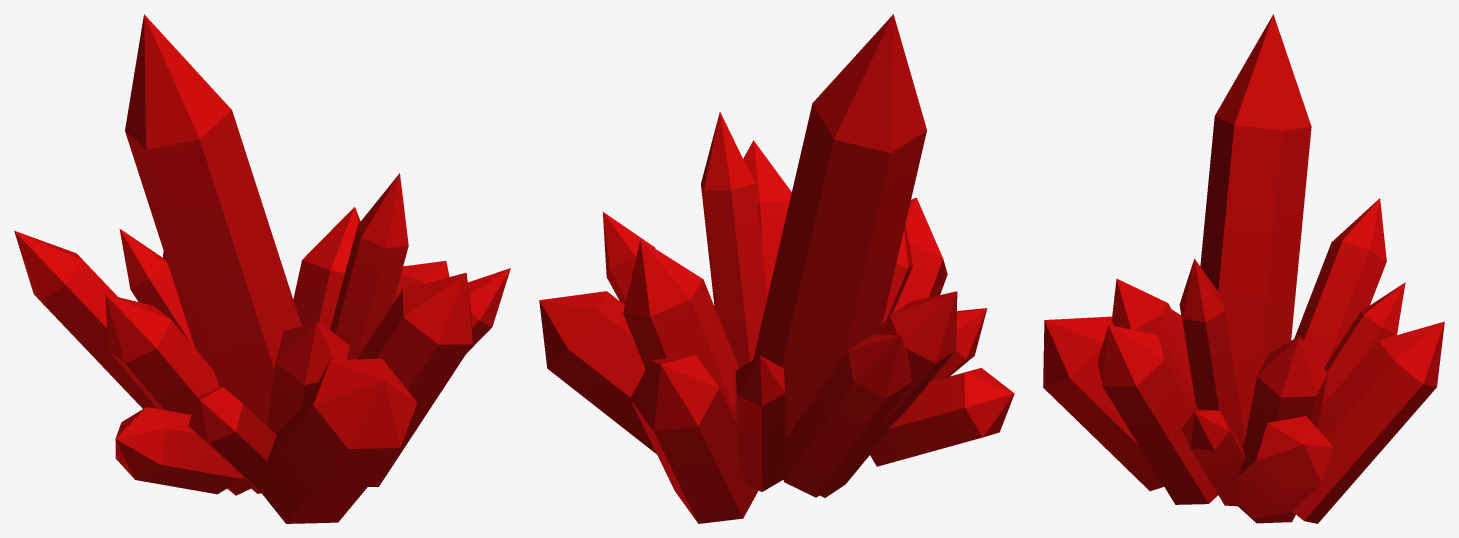
File: geology-crystals-coloredcrystalcluster_v1.fbx
The picture shows the model from 3 angles, left to right: view 1: azimuth 30°, elevation 25°; view 2: azimuth 150°, elevation 25°; view 3: azimuth 270°, elevation 25°; orthographic projection. The views are drawn at different scales.
Parts seen in each view (by area): view 1: ColoredCrystalCluster_v1; view 2: ColoredCrystalCluster_v1; view 3: ColoredCrystalCluster_v1.
Part boxes in pixels (x1,y1,x2,y2): ColoredCrystalCluster_v1: [14, 14, 510, 523]; ColoredCrystalCluster_v1: [539, 14, 1014, 523]; ColoredCrystalCluster_v1: [1043, 14, 1444, 523].
Size of the model in its own units: 7.96 by 9.77 by 8.06.
